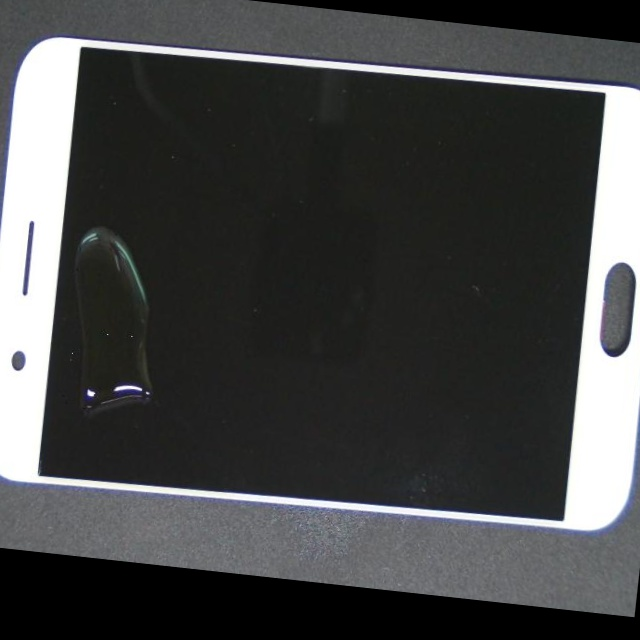oil: (31, 87, 166, 370)
